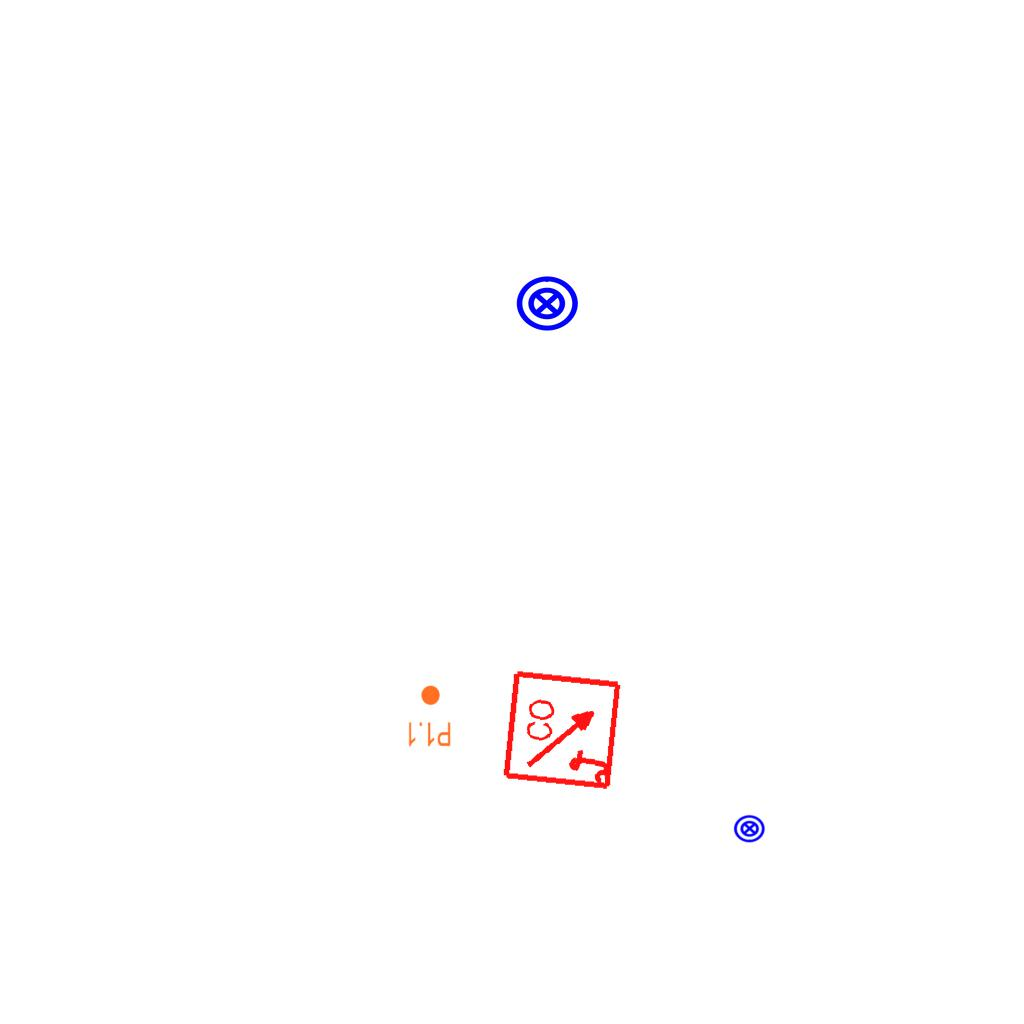Downlight_LED_Einbauleuchten_Flur: (406, 684, 452, 748)
ROA_Rauchmelder_optisch_mit_Signalgeber_(Sockelsirene): (501, 667, 626, 792)
Taster_beleuchtet: (514, 271, 580, 337), (733, 812, 766, 845)
